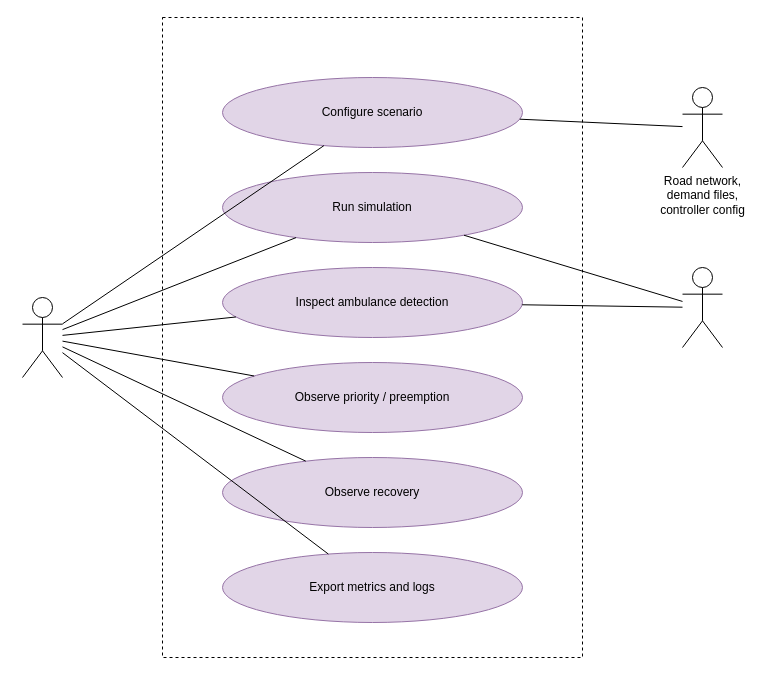
Some shapes in this 777 by 675 pixel diagram are drawn without their labels. Each missing label, with the box of its shape:
AI-based traffic control system: (162, 16, 582, 658)
Operator: (22, 296, 62, 378)
Video stream / simulated emergency vehicle state: (682, 266, 722, 348)
